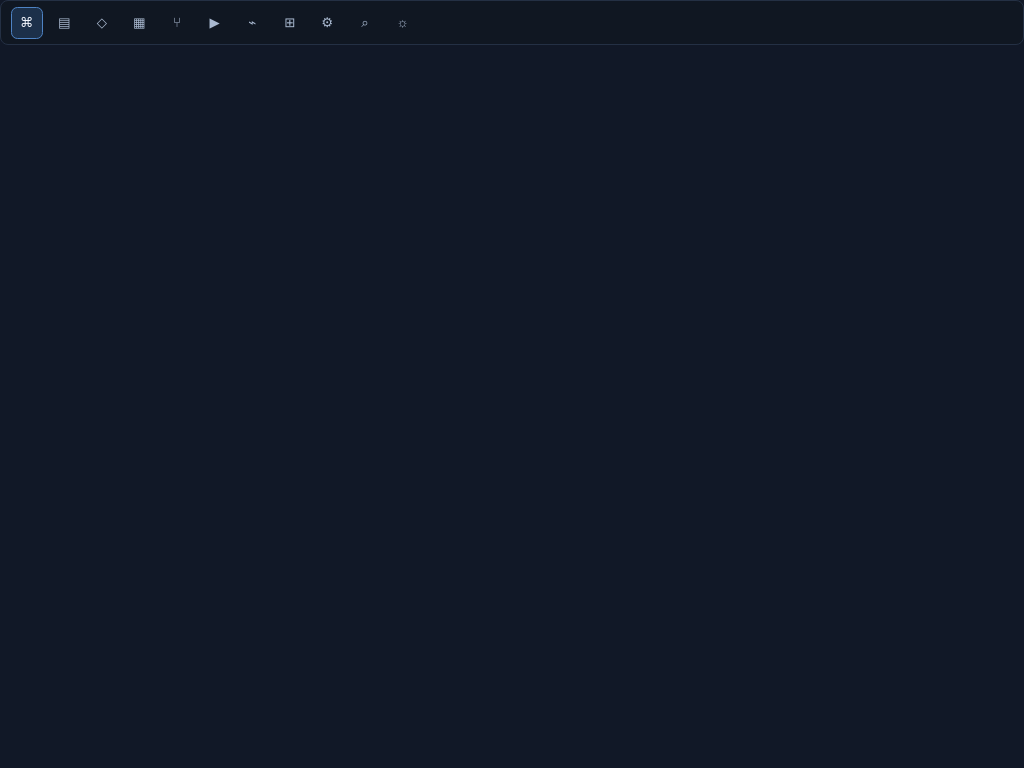
Test: ActivityRail › opens the command palette from the button and keyboard shortcut
Click the button named "Open command palette" at (365,23), box [349,7,381,39]
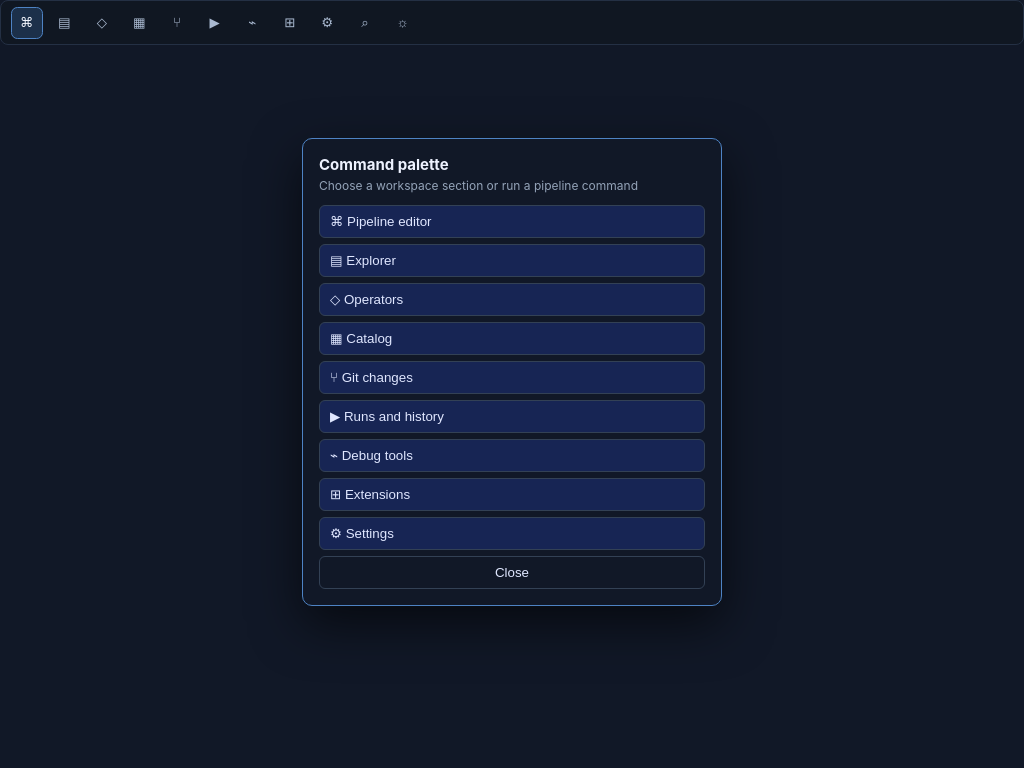
Check: the dialog "Command palette" is shown, box [302,138,722,606]
